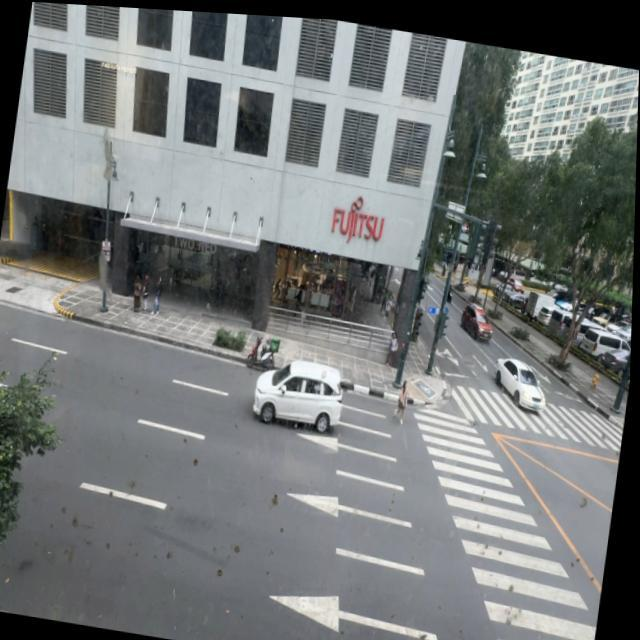jaywalking: (393, 378, 410, 425)
